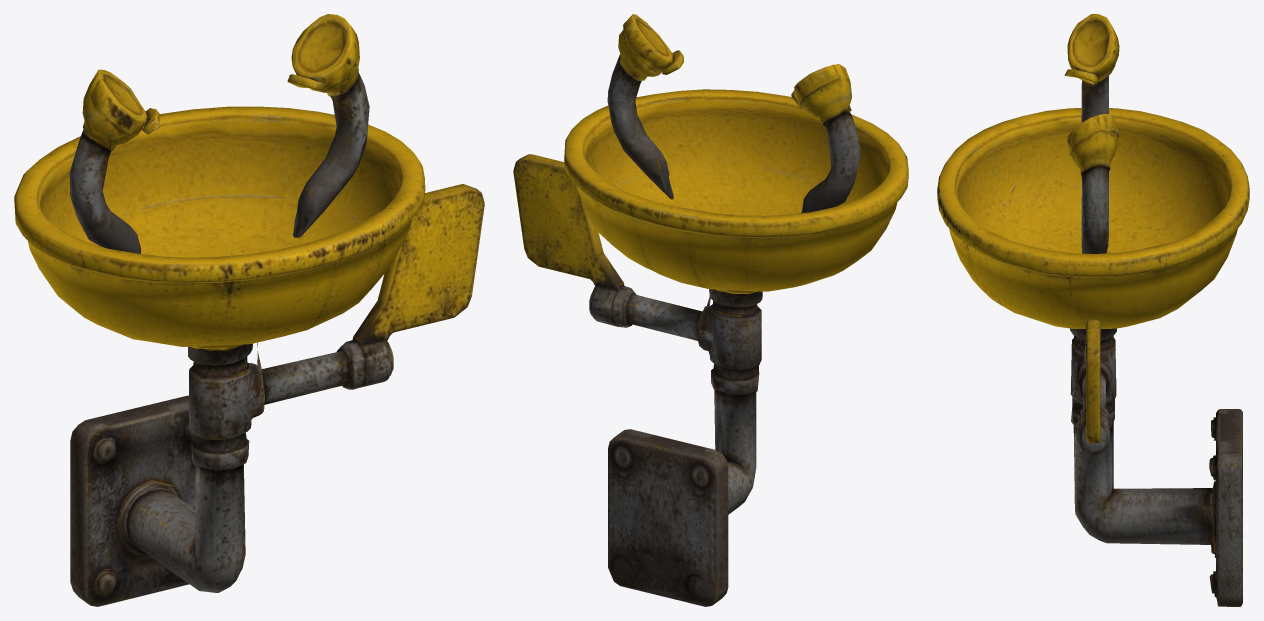
Rendered from p7-eyewash-station-t25.glb.
The picture shows the model from 3 angles, left to right: view 1: azimuth 30°, elevation 25°; view 2: azimuth 150°, elevation 25°; view 3: azimuth 270°, elevation 25°; orthographic projection. The views are drawn at different scales.
Parts seen in each view (by area): view 1: p7-eyewash-station-t25; view 2: p7-eyewash-station-t25; view 3: p7-eyewash-station-t25.
Part boxes in pixels (x1,y1,x2,y2): p7-eyewash-station-t25: (14, 14, 484, 606); p7-eyewash-station-t25: (513, 14, 908, 606); p7-eyewash-station-t25: (937, 14, 1249, 606).
Bounding box in the file's own units: 0.545 × 0.7 × 0.381.
Materials: 1 (1 with a texture image).
